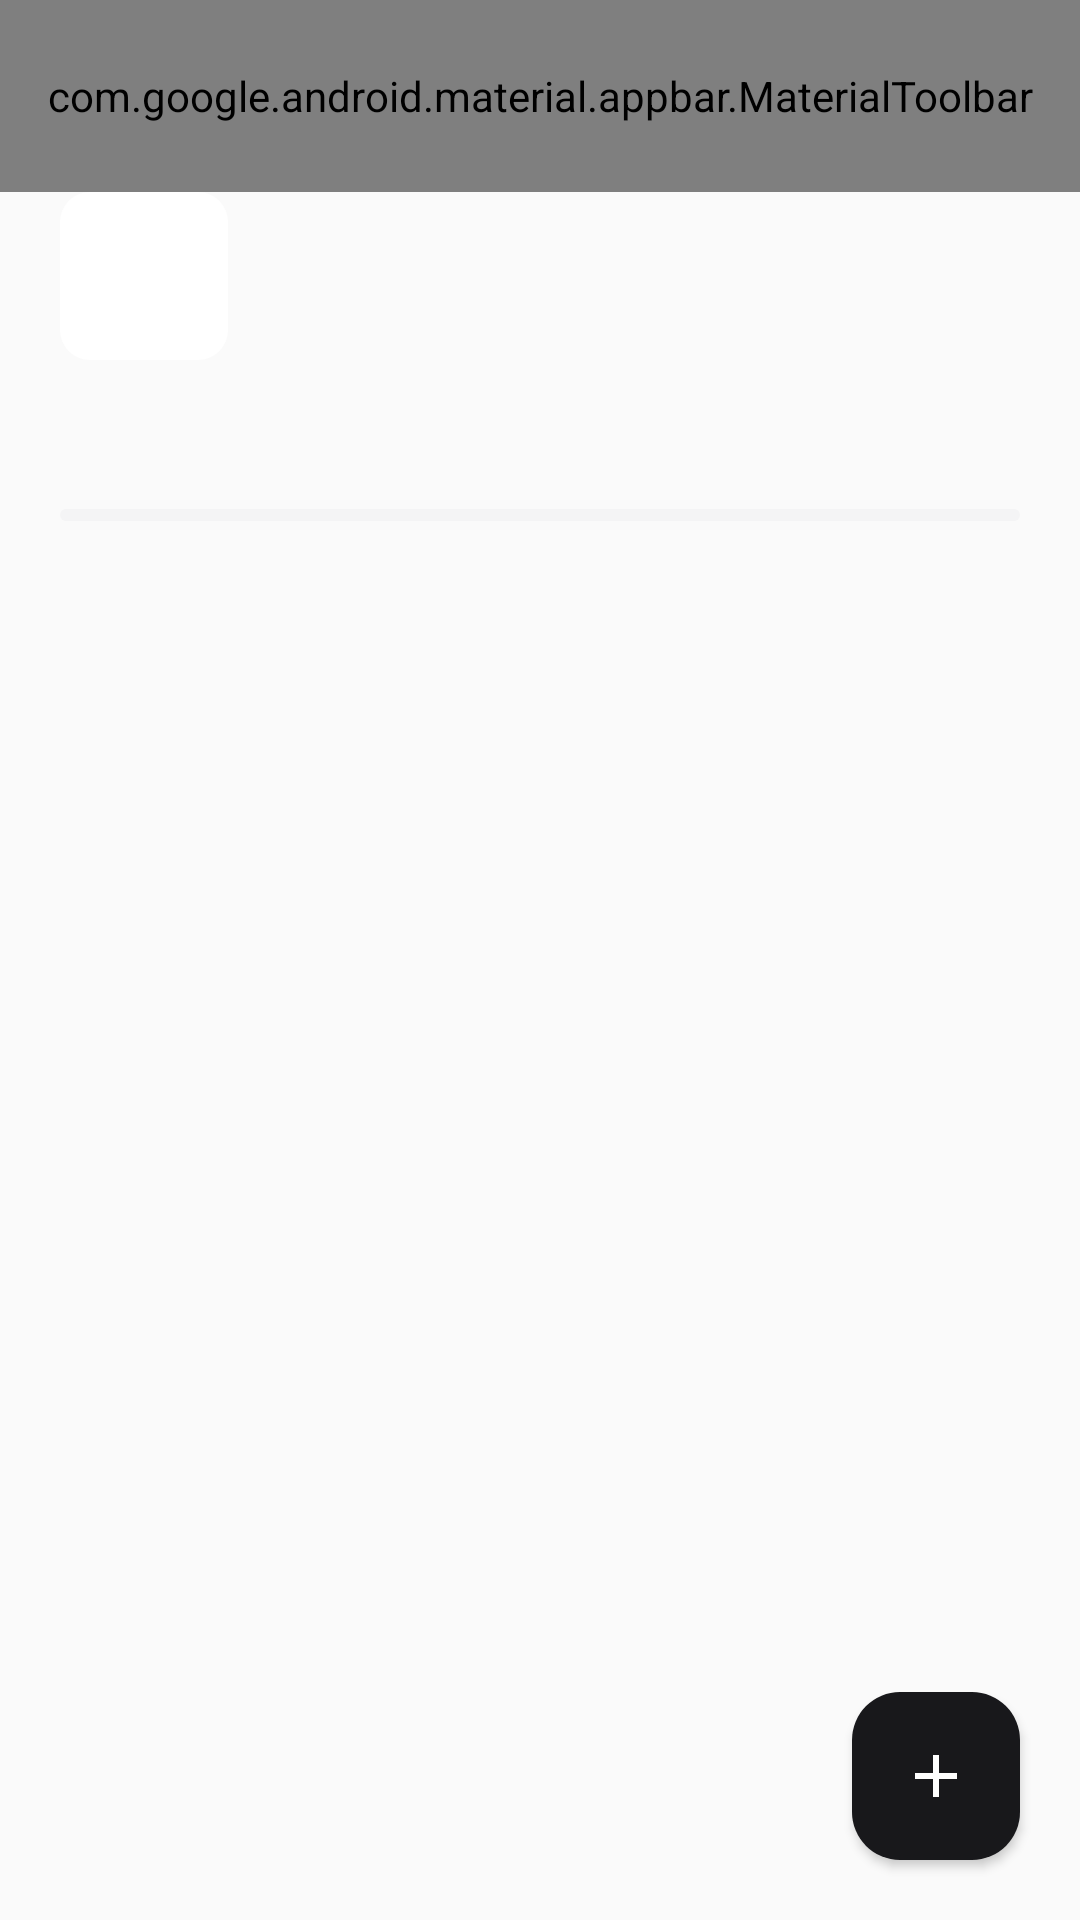

Named icons in this screenshot (1080x1920) and their centers, (x=x, y=y):
Add task: (x=936, y=1776)
